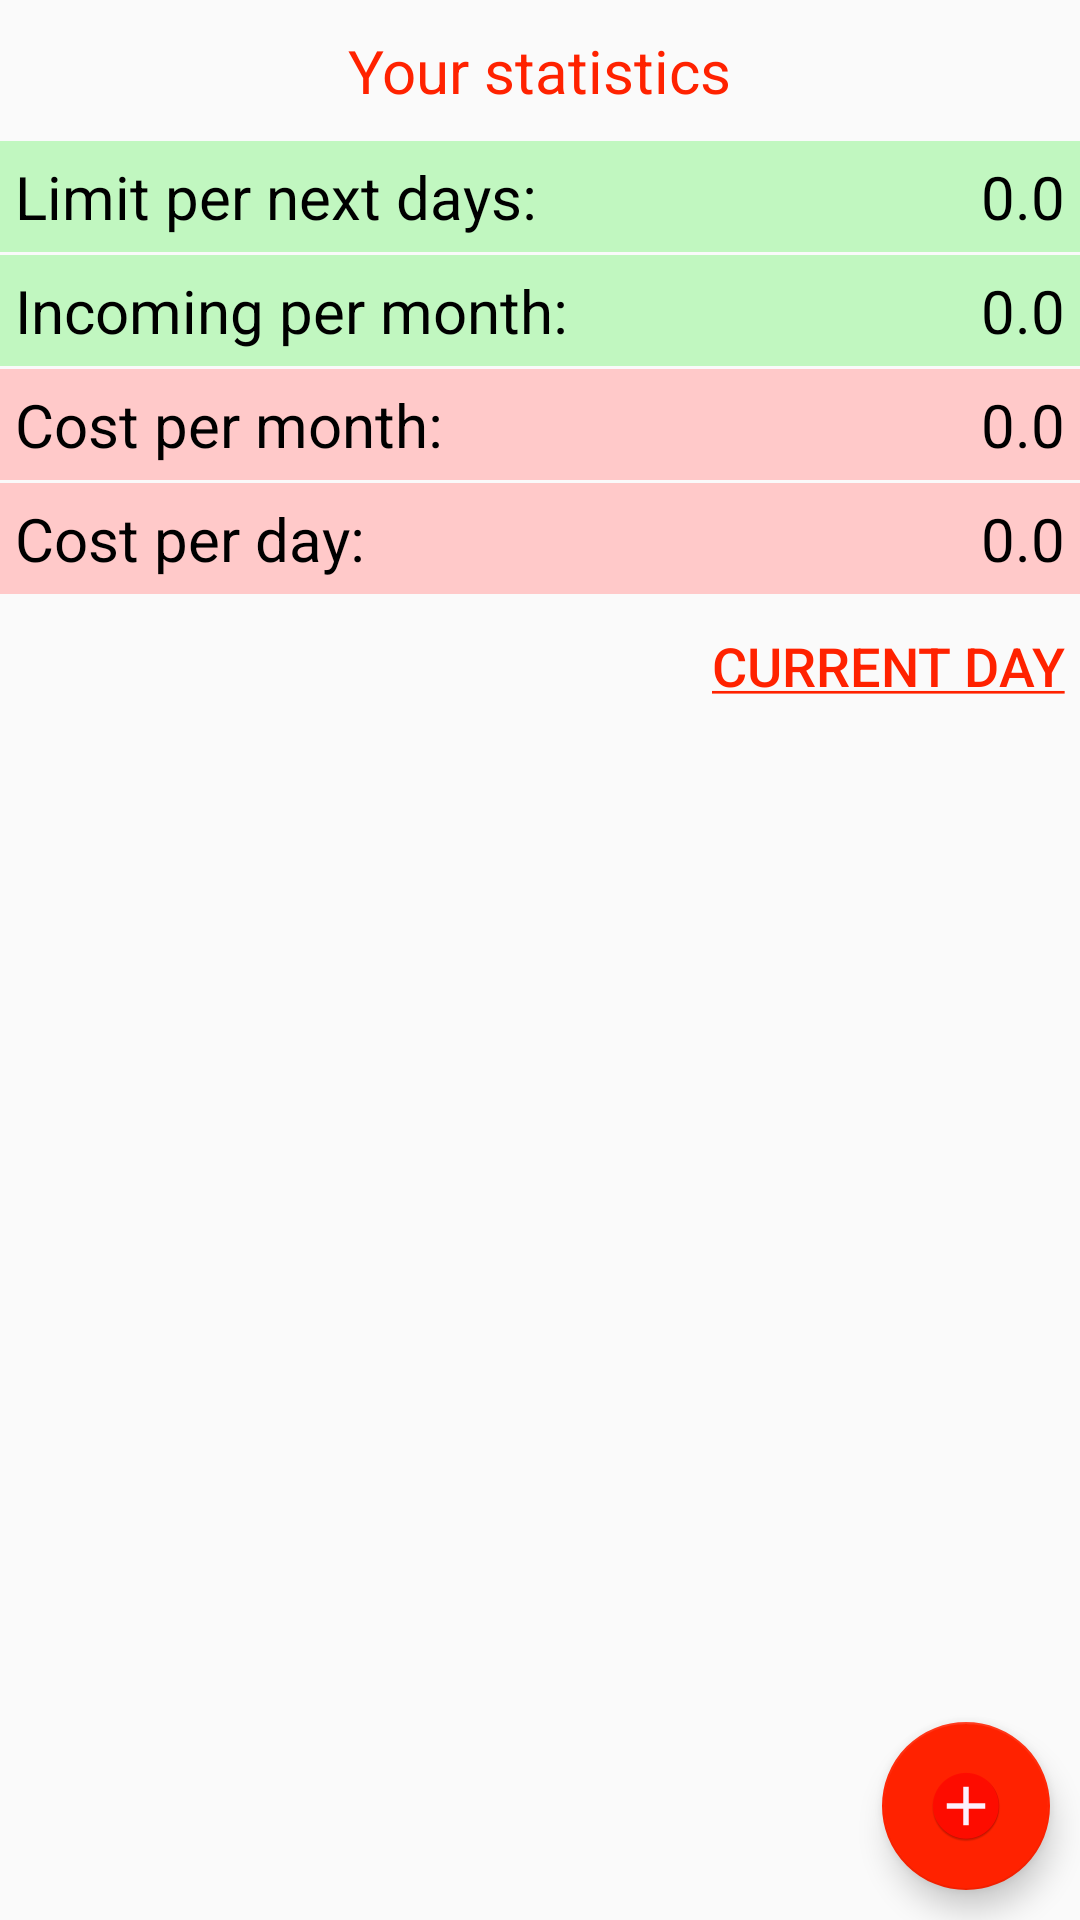

Icon click points for this 1080w x 1920h phone screenshot, format [x,y]:
add: [966,1806]
